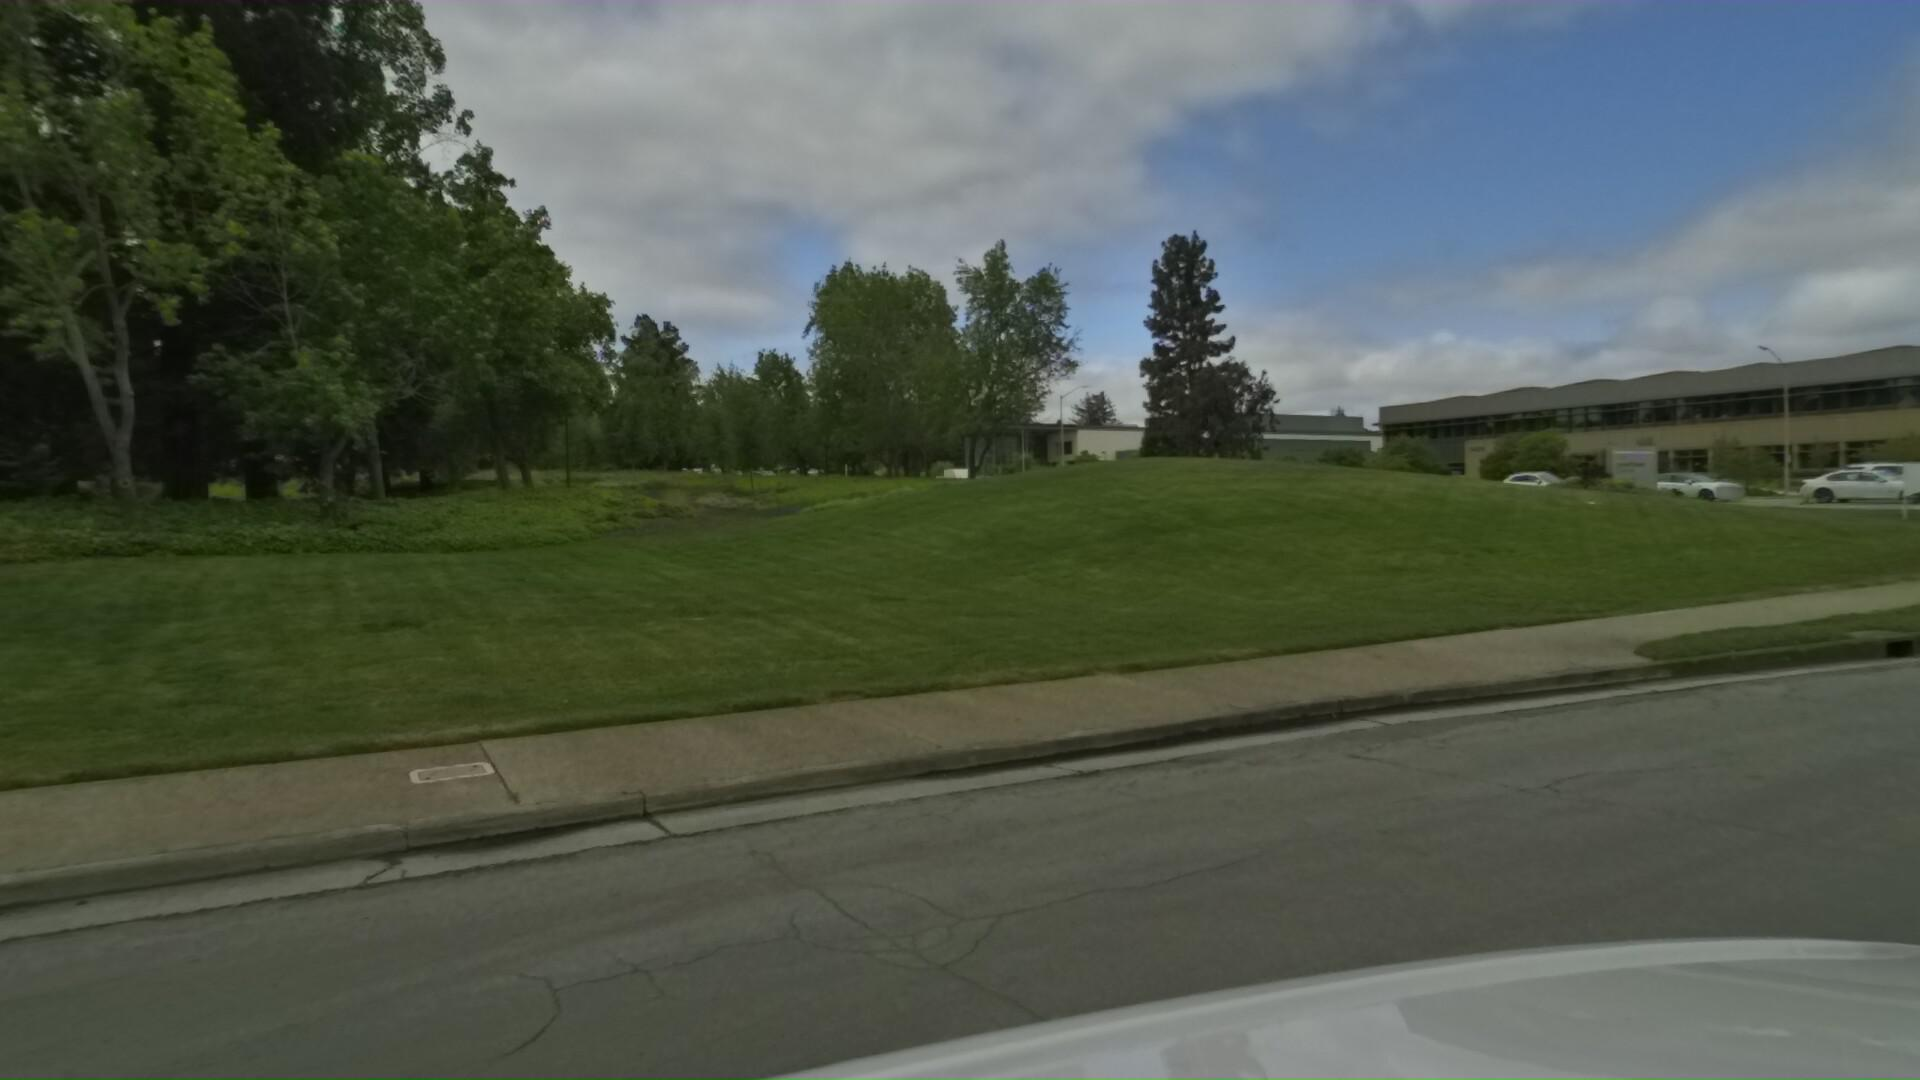car: (1782, 452, 1920, 498), (1832, 443, 1920, 495), (1629, 462, 1753, 497)
